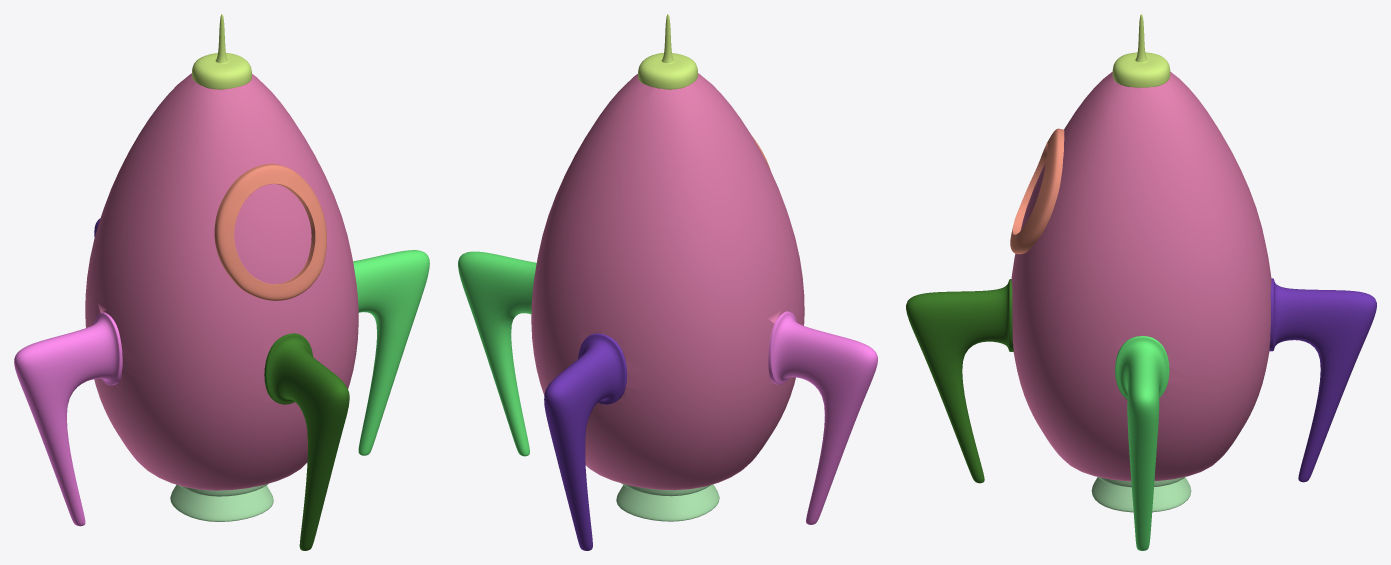
The picture shows the model from 3 angles, left to right: view 1: azimuth 30°, elevation 25°; view 2: azimuth 150°, elevation 25°; view 3: azimuth 270°, elevation 25°; orthographic projection.
Visible parts, largest first — view 1: Object_2, Object_4, Object_5, Object_6, split_parent_5, Object_2.001, Object_2.003; view 2: Object_2, Object_4, Object_3, Object_6, Object_2.001, Object_2.003; view 3: Object_2, Object_3, Object_5, Object_6, split_parent_5, Object_2.001, Object_2.003.
Boxes of the visible parts, x1,y1,x2,y2 form: Object_2: (85, 73, 358, 490); Object_4: (14, 312, 122, 526); Object_5: (264, 333, 349, 550); Object_6: (353, 250, 429, 455); split_parent_5: (214, 164, 326, 300); Object_2.001: (170, 483, 273, 521); Object_2.003: (192, 14, 251, 89); Object_2: (531, 73, 804, 490); Object_4: (768, 311, 877, 524); Object_3: (544, 333, 627, 550); Object_6: (458, 251, 536, 456); Object_2.001: (616, 483, 719, 521); Object_2.003: (638, 14, 697, 89); Object_2: (1011, 72, 1271, 481); Object_3: (1269, 278, 1376, 482); Object_5: (906, 279, 1013, 483); Object_6: (1115, 336, 1169, 550); split_parent_5: (1010, 128, 1064, 254); Object_2.001: (1091, 477, 1191, 512); Object_2.003: (1112, 14, 1170, 87).
Bounding box in the file's own units: 0.8927 × 1 × 0.8927.
